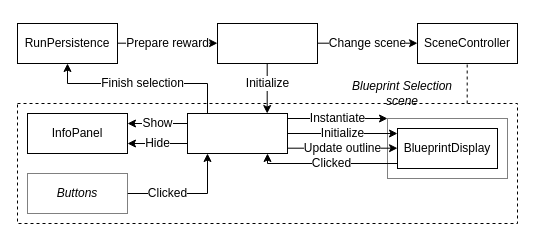
Some shapes in this 535 by 241 pixel diagram are drawn without their labels. The shapes that lost their labels are listed below. From the top down, each one's centre as x and y in pixels, then its label:
point 267,43: Blueprint-Reward-Controller
point 237,133: Blueprint-Selection-Controller
